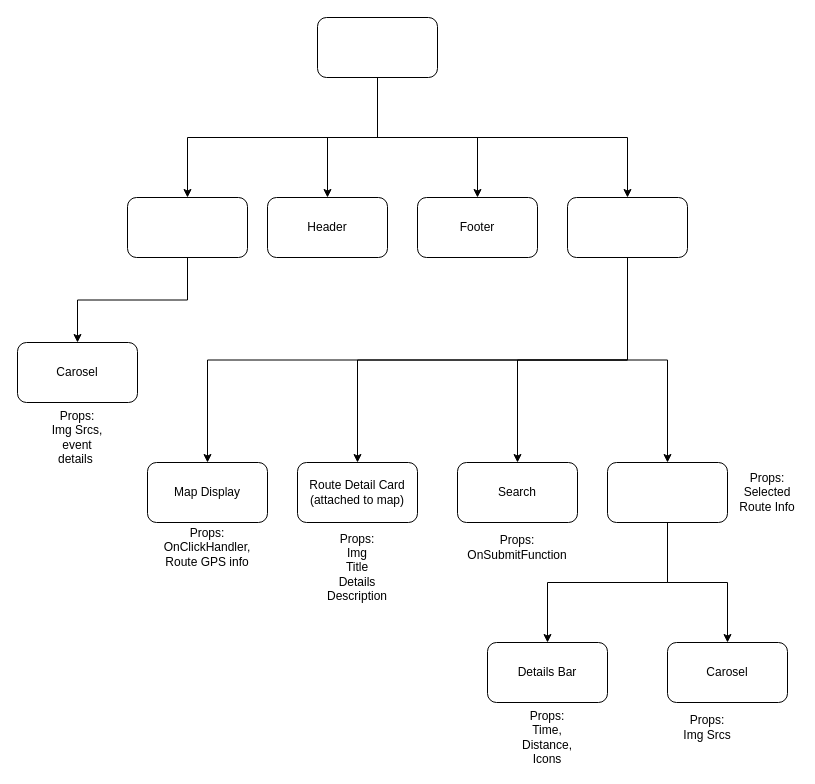
Some shapes in this 815 by 784 pixel diagram are drawn without their labels. The shapes that lost their labels are listed below. From the top down, each one's centre as x and y in pixels, then its label:
At point (377, 47): "App".
At point (187, 227): "Landing Page".
At point (627, 227): "Map page".
At point (667, 492): "Route Details (dropdown)".
